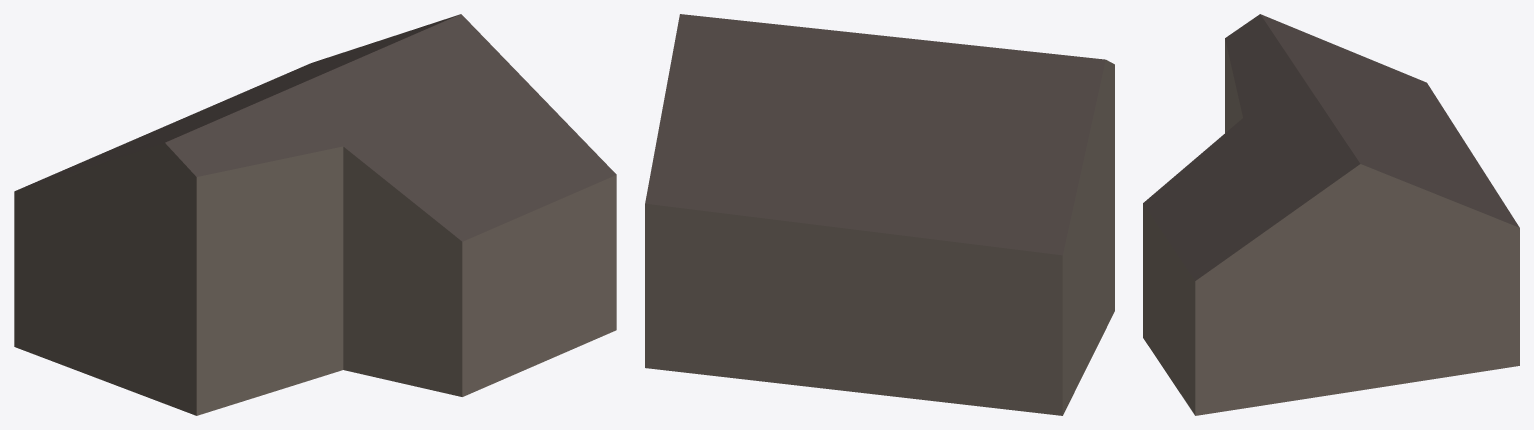
The picture shows the model from 3 angles, left to right: view 1: azimuth 30°, elevation 25°; view 2: azimuth 150°, elevation 25°; view 3: azimuth 270°, elevation 25°; orthographic projection. The views are drawn at different scales.
Parts seen in each view (by area): view 1: HP-w1512911285; view 2: HP-w1512911285; view 3: HP-w1512911285.
Part boxes in pixels (box(x1,y1,x2,y2)): HP-w1512911285: box(14, 14, 616, 415); HP-w1512911285: box(645, 14, 1114, 415); HP-w1512911285: box(1143, 14, 1519, 415).
Size of the model in its own units: 18.95 by 10.08 by 15.2.
